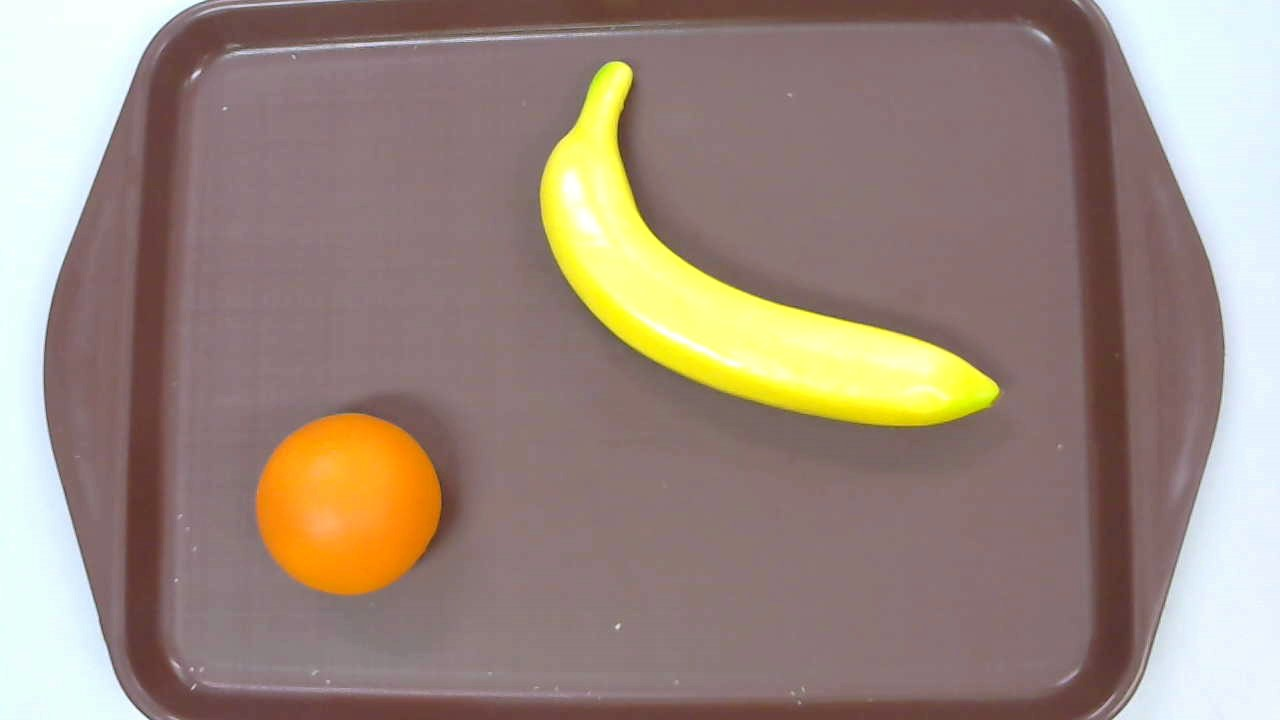banana: (538, 60, 1001, 427)
bun: (254, 413, 441, 596)
